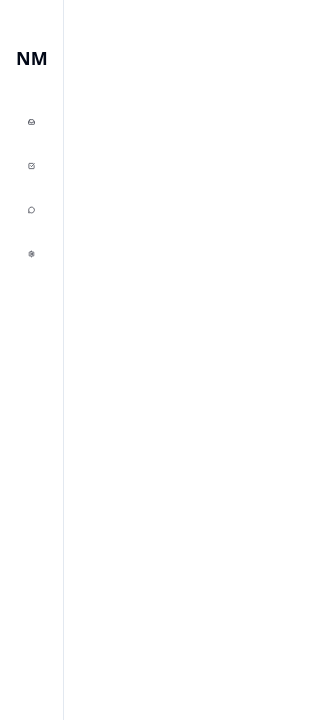
MainLayout › Sidebar › should show full app name when expanded
The image size is (320, 720).
Hover over the navigation bar named "sidebar" at (32, 360), box left=0, top=0, right=64, bottom=719
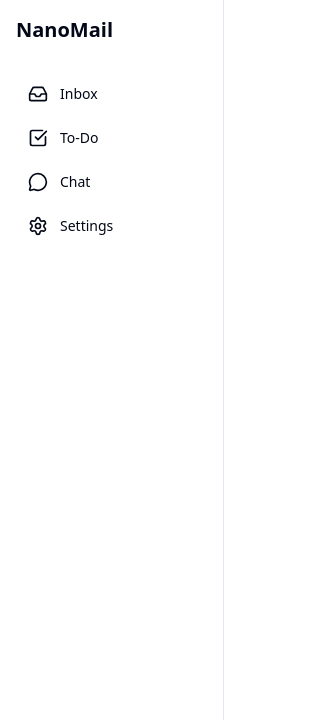
Expected: the heading "NanoMail" is shown, left=16, top=16, right=113, bottom=43
